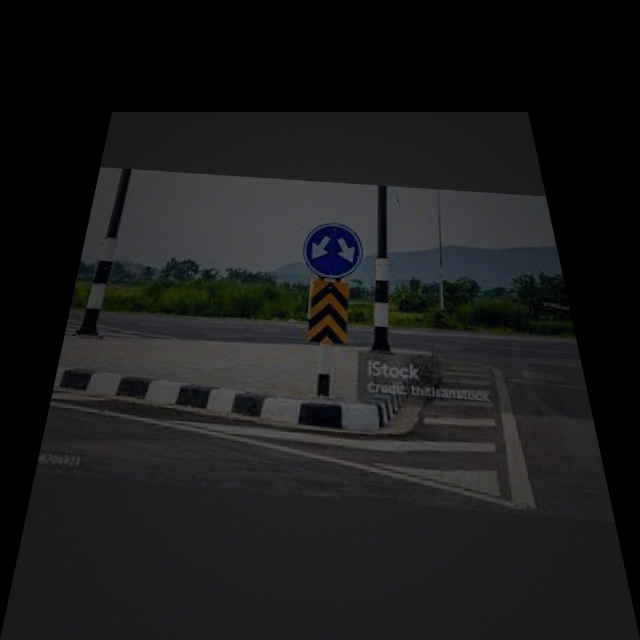Pass_Either_Side: (299, 218, 367, 280)
